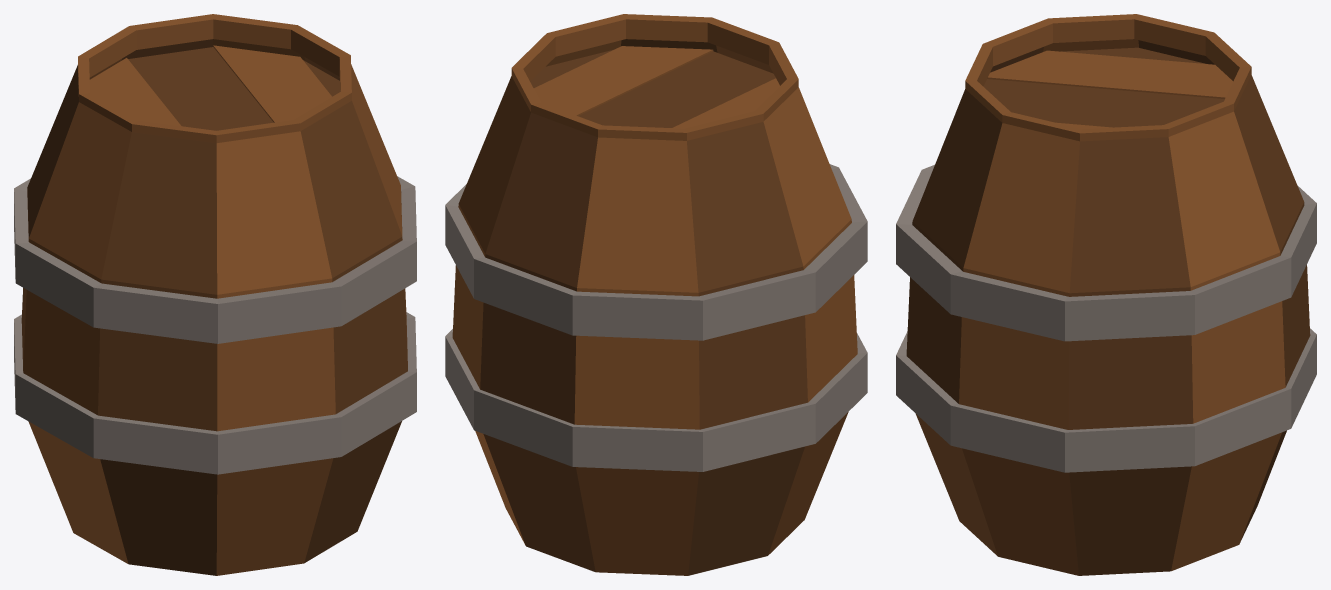
File: decor2.fbx
3 renders of one model, left to right at view 1: azimuth 30°, elevation 25°; view 2: azimuth 150°, elevation 25°; view 3: azimuth 270°, elevation 25°, orthographic.
Visible parts, largest first — view 1: Cylinder.005; view 2: Cylinder.005; view 3: Cylinder.005.
Boxes of the visible parts, box(x1,y1,x2,y2) form: Cylinder.005: box(14, 14, 416, 575); Cylinder.005: box(445, 14, 867, 575); Cylinder.005: box(896, 14, 1316, 575).
Bounding box in the file's own units: 276 × 322 × 279.
